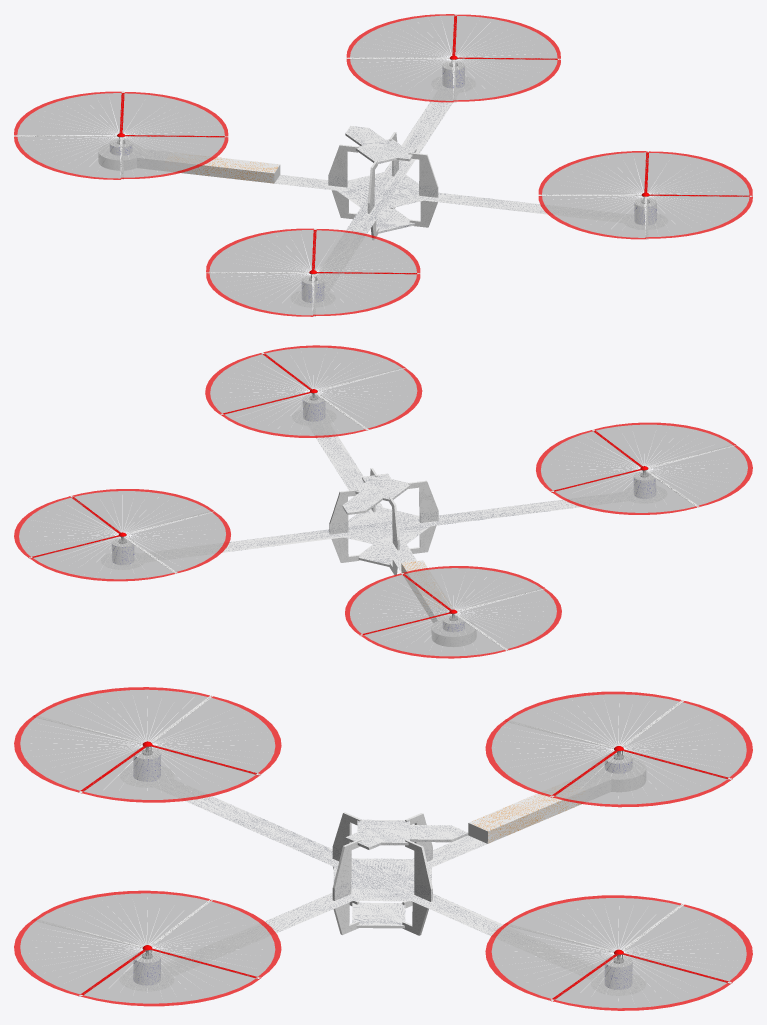
File: quadrotor.dae
3 views of the same model, one above another, from view 1: azimuth 30°, elevation 25°; view 2: azimuth 150°, elevation 25°; view 3: azimuth 270°, elevation 25° (orthographic). The views are drawn at different scales.
Parts seen in each view (by area): view 1: instance_0_002, instance_0_037, instance_0_019, instance_2, instance_0_013, instance_3_022, instance_10_022, instance_8_021, instance_9_021, instance_10_021, instance_3_021, instance_8_022 (+20 smaller); view 2: instance_0_002, instance_0_037, instance_2, instance_0_019, instance_0_013, instance_3_022, instance_10_022, instance_8_022, instance_9_022, instance_3_021, instance_8_021, instance_9_021 (+17 smaller); view 3: instance_0_002, instance_0_037, instance_0_019, instance_2, instance_0_013, instance_3_022, instance_10_022, instance_8_022, instance_9_022, instance_8_021, instance_9_021, instance_3_021 (+23 smaller).
Part boxes in pixels (bbox=[...]): instance_0_002: bbox=[274, 76, 667, 307]; instance_0_037: bbox=[296, 88, 662, 305]; instance_0_019: bbox=[165, 152, 279, 183]; instance_2: bbox=[345, 125, 416, 164]; instance_0_013: bbox=[98, 143, 170, 170]; instance_3_022: bbox=[17, 124, 115, 140]; instance_10_022: bbox=[209, 261, 307, 277]; instance_8_021: bbox=[651, 190, 749, 206]; instance_9_021: bbox=[459, 53, 557, 69]; instance_10_021: bbox=[320, 267, 416, 283]; instance_3_021: bbox=[127, 130, 224, 146]; instance_8_022: bbox=[542, 183, 640, 200]; instance_0_002: bbox=[102, 409, 666, 572]; instance_0_037: bbox=[103, 412, 661, 565]; instance_2: bbox=[342, 473, 410, 514]; instance_0_019: bbox=[401, 560, 451, 616]; instance_0_013: bbox=[430, 606, 476, 646]; instance_3_022: bbox=[454, 614, 515, 654]; instance_10_022: bbox=[645, 471, 706, 510]; instance_8_022: bbox=[314, 394, 375, 433]; instance_9_022: bbox=[123, 537, 184, 577]; instance_3_021: bbox=[391, 570, 451, 610]; instance_8_021: bbox=[251, 349, 311, 389]; instance_9_021: bbox=[60, 493, 120, 533]; instance_0_002: bbox=[119, 766, 645, 995]; instance_0_037: bbox=[122, 768, 636, 991]; instance_0_019: bbox=[468, 781, 585, 843]; instance_2: bbox=[345, 819, 468, 849]; instance_0_013: bbox=[567, 758, 645, 801]; instance_3_022: bbox=[621, 699, 708, 747]; instance_10_022: bbox=[150, 694, 237, 742]; instance_8_022: bbox=[150, 898, 237, 946]; instance_9_022: bbox=[621, 902, 708, 950]; instance_8_021: bbox=[58, 950, 145, 998]; instance_9_021: bbox=[529, 955, 616, 1003]; instance_3_021: bbox=[529, 751, 616, 799].
Bounding box in the file's own units: 0.5213 × 0.521 × 0.0697.
